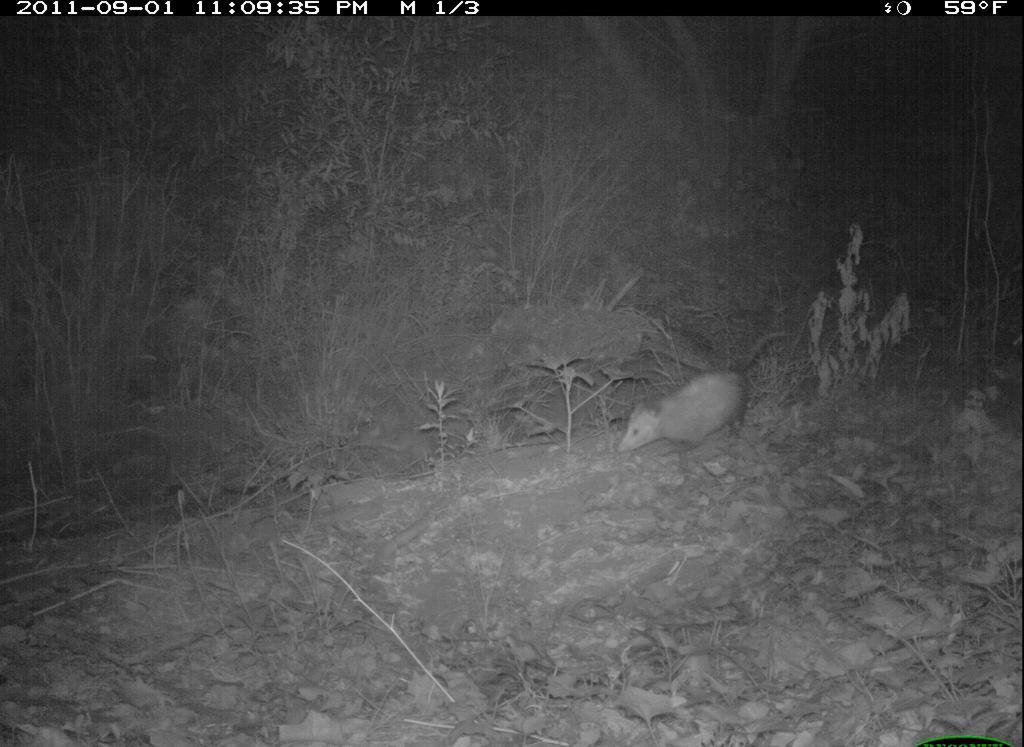opossum: (609, 315, 807, 473)
